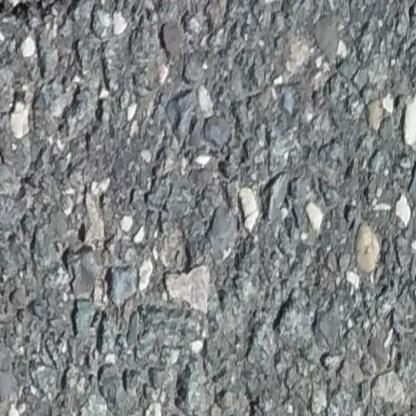Cracks: (0, 0, 106, 39), (108, 0, 143, 12)
